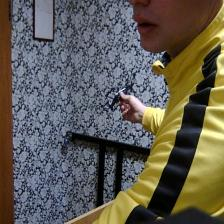drone: (102, 72, 137, 110)
